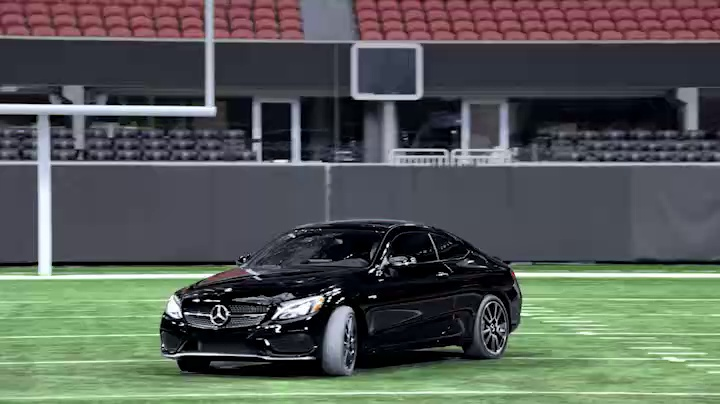amg: (155, 220, 523, 378)
